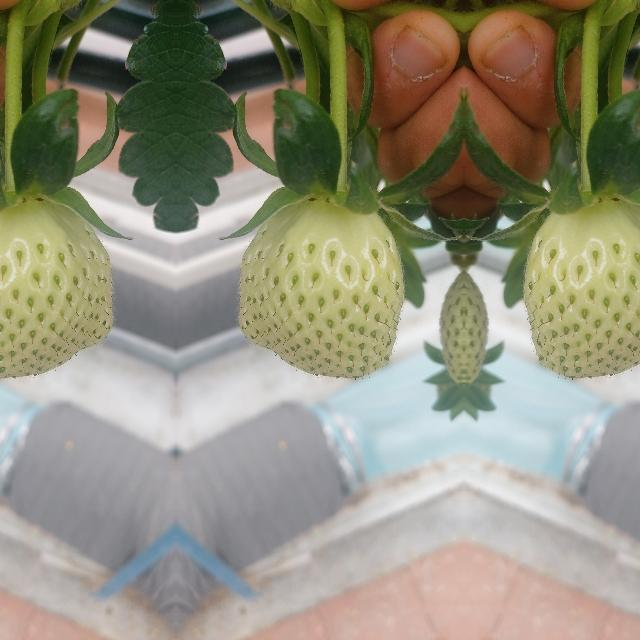Health_25: (238, 196, 402, 378), (523, 196, 640, 377), (0, 196, 112, 377)
